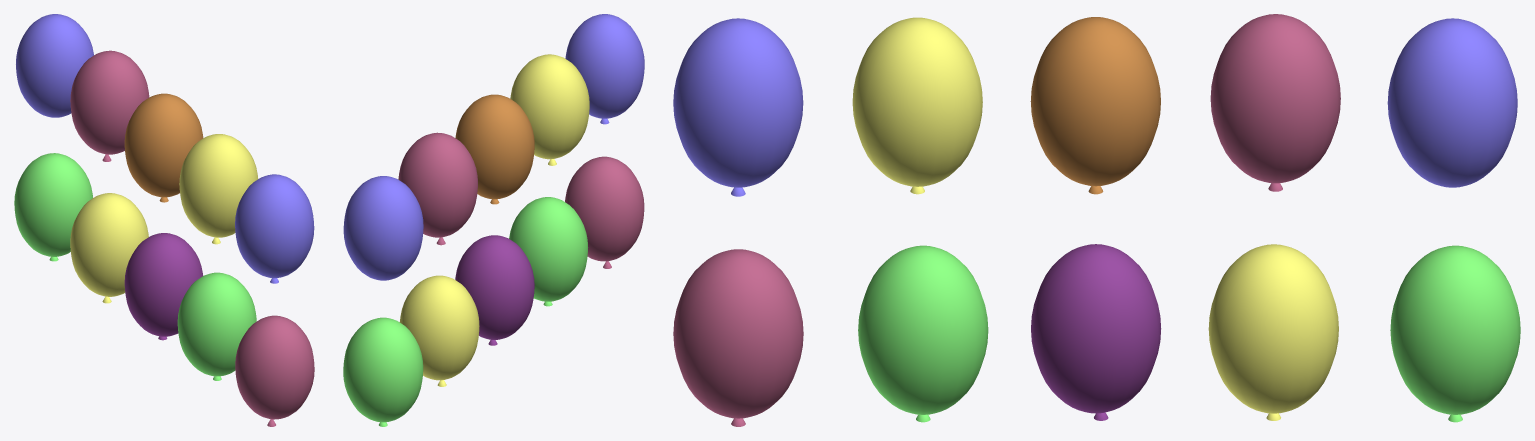
File: balloons.fbx
3 renders of one model, left to right at view 1: azimuth 30°, elevation 25°; view 2: azimuth 150°, elevation 25°; view 3: azimuth 270°, elevation 25°, orthographic. The views are drawn at different scales.
Visible parts, largest first — view 1: pasted__Balloon (×6), pasted__Balloon4, pasted__Balloon2, pasted__Balloon1, pasted__Balloon3; view 2: pasted__Balloon (×6), pasted__Balloon4, pasted__Balloon3, pasted__Balloon1, pasted__Balloon2; view 3: pasted__Balloon (×6), pasted__Balloon2, pasted__Balloon4, pasted__Balloon1, pasted__Balloon3.
Boxes of the visible parts, x1,y1,x2,y2 form: pasted__Balloon (×6): (124, 93, 314, 419); pasted__Balloon4: (14, 153, 92, 256); pasted__Balloon2: (70, 50, 149, 154); pasted__Balloon1: (70, 193, 148, 296); pasted__Balloon3: (16, 14, 93, 117); pasted__Balloon (×6): (455, 14, 644, 339); pasted__Balloon4: (343, 317, 423, 422); pasted__Balloon3: (343, 176, 423, 280); pasted__Balloon1: (399, 275, 479, 380); pasted__Balloon2: (398, 132, 477, 237); pasted__Balloon (×6): (673, 17, 1161, 418); pasted__Balloon2: (1210, 14, 1340, 183); pasted__Balloon4: (1390, 245, 1520, 414); pasted__Balloon1: (1208, 244, 1338, 413); pasted__Balloon3: (1387, 18, 1517, 187).
Bounding box in the file's own units: 0.3407 × 1.16 × 2.19.
